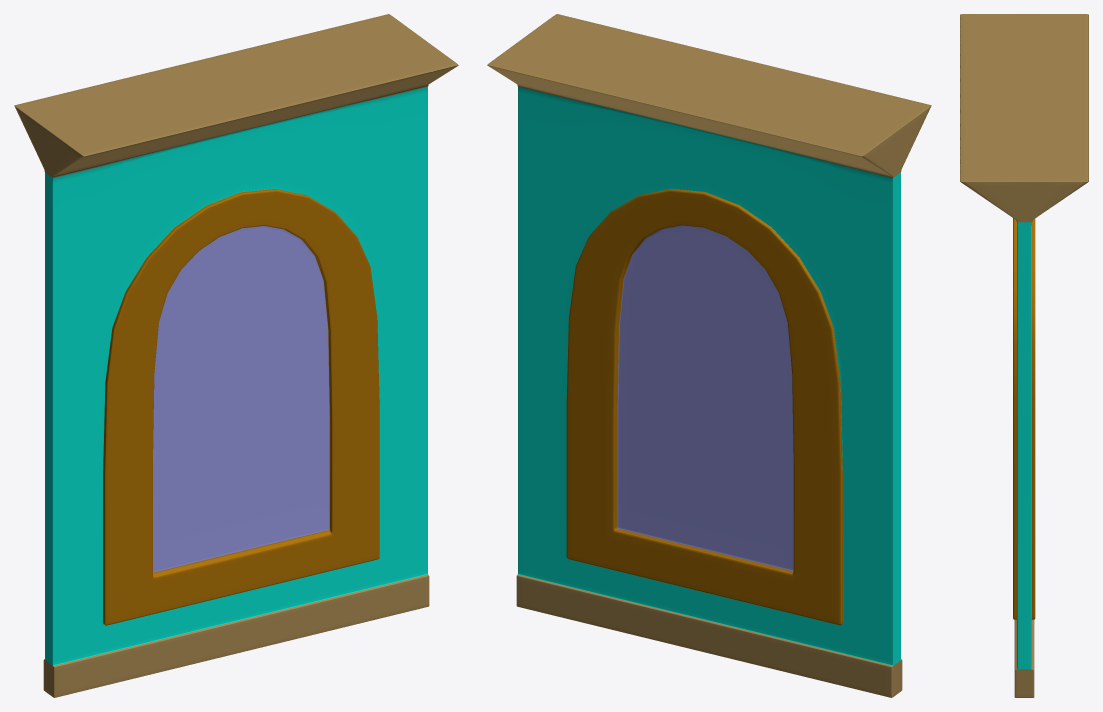
The model's file is SmallWindow.fbx.
3 renders of one model, left to right at view 1: azimuth 30°, elevation 25°; view 2: azimuth 150°, elevation 25°; view 3: azimuth 270°, elevation 25°, orthographic. The views are drawn at different scales.
Parts seen in each view (by area): view 1: pPipe1; view 2: pPipe1; view 3: pPipe1.
Part boxes in pixels (bbox=[...]): pPipe1: bbox=[14, 14, 458, 697]; pPipe1: bbox=[487, 14, 931, 697]; pPipe1: bbox=[960, 14, 1088, 697].
Size of the model in its own units: 200 by 287 by 64.91.
